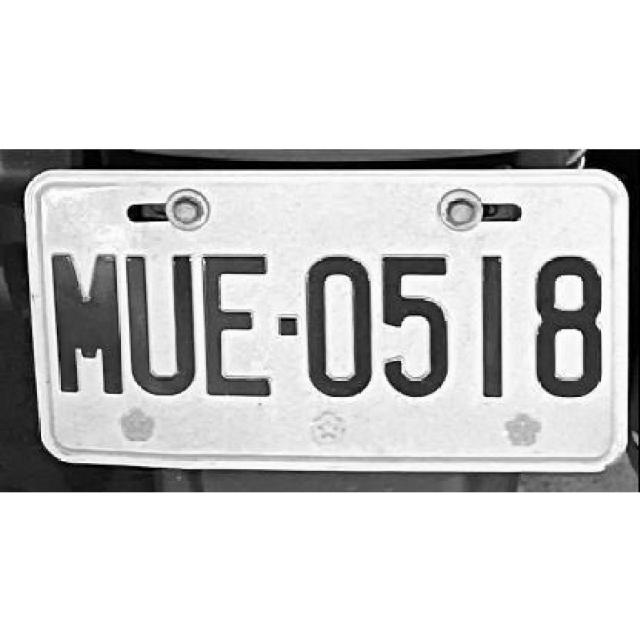-: (276, 314, 298, 338)
0: (303, 254, 371, 397)
1: (477, 249, 505, 402)
5: (380, 251, 451, 397)
8: (531, 249, 603, 403)
E: (200, 251, 269, 398)
M: (51, 252, 123, 398)
U: (126, 251, 199, 398)
